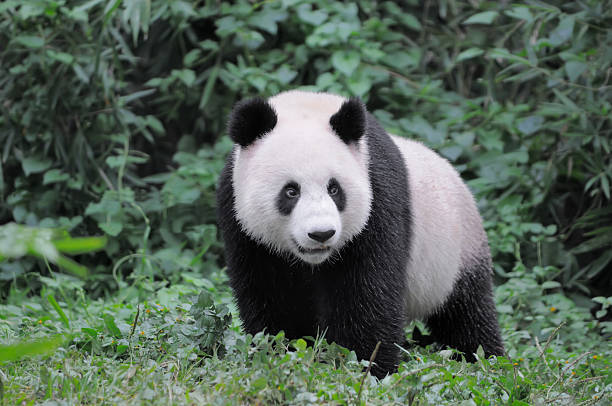panda: (181, 86, 407, 287)
